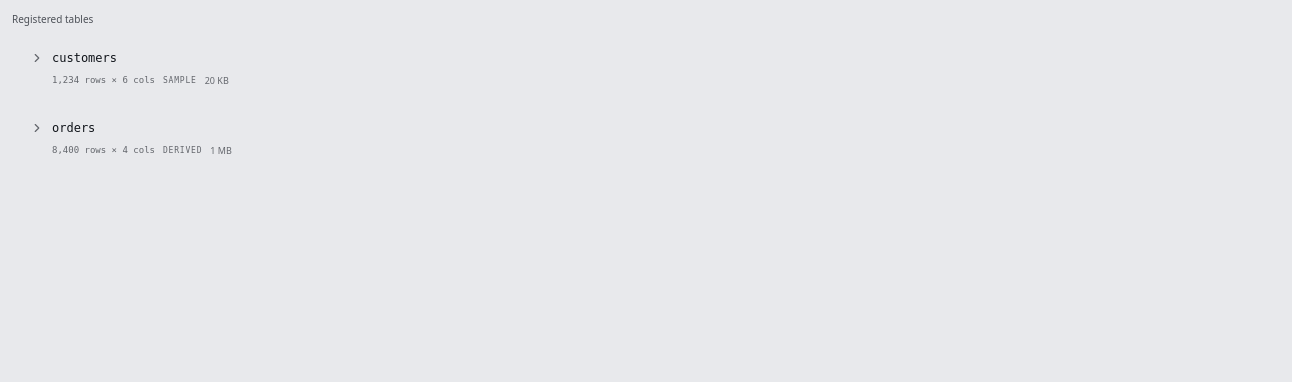
TableList › reflow (S1, 14-workspace-streamline/01-explorer-rail-reflow.md) › allows more than one table's disclosure open at once — multi-open, not accordion
Click the button with test id "trow-chevron-t-customers": (37,58) [28,49,46,67]
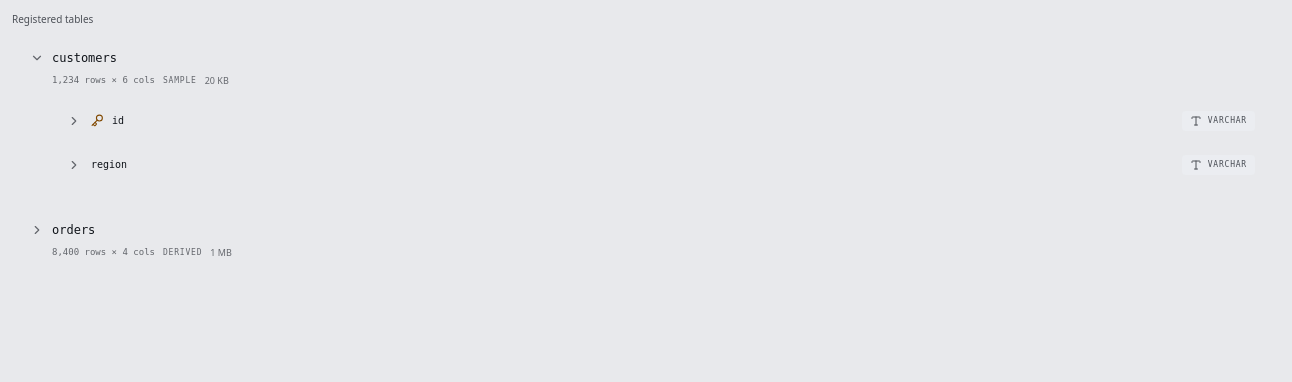
Click the button with test id "trow-chevron-t-orders": (37,230) [28,221,46,239]
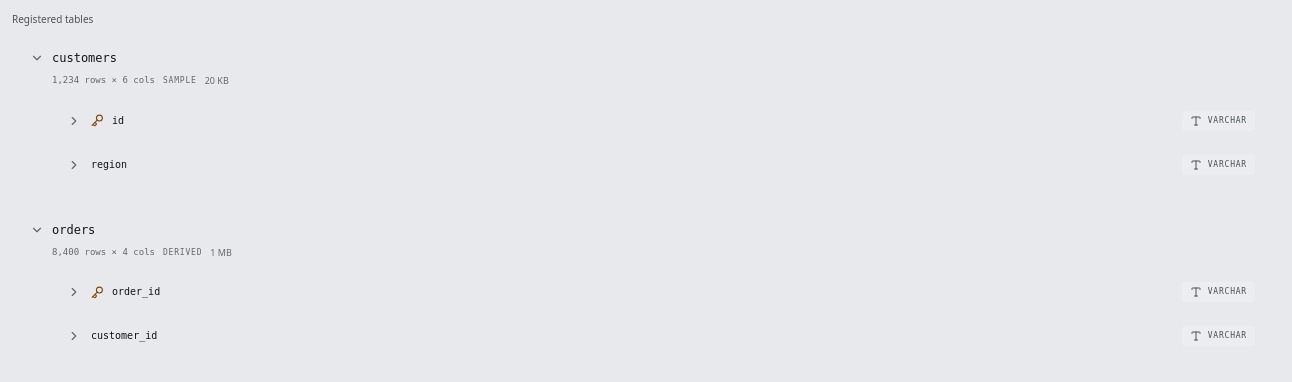
Check: the element with test id "trow-columns-t-customers" is shown, box [28,100,1276,194]
Check: the element with test id "trow-columns-t-orders" is shown, box [28,271,1276,365]
